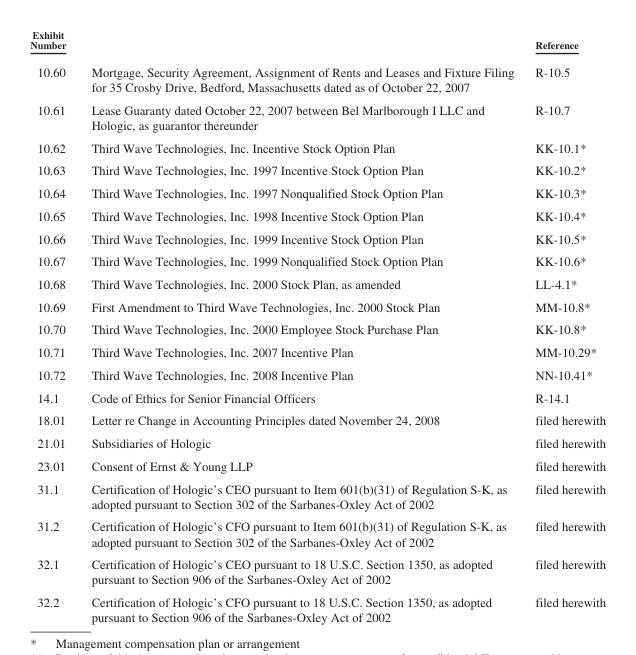table: (29, 28, 605, 624)
table column: (78, 28, 524, 624), (524, 28, 605, 624), (29, 28, 78, 624)
table column header: (29, 28, 605, 98)
table row: (29, 28, 605, 98), (29, 476, 605, 514), (29, 514, 605, 552), (29, 552, 605, 590), (29, 98, 605, 135), (29, 590, 605, 624), (29, 135, 605, 158), (29, 158, 605, 181), (29, 181, 605, 204), (29, 226, 605, 249), (29, 249, 605, 272), (29, 272, 605, 295), (29, 317, 605, 340), (29, 340, 605, 363), (29, 385, 605, 408), (29, 408, 605, 431), (29, 431, 605, 454), (29, 204, 605, 226), (29, 295, 605, 317), (29, 363, 605, 385), (29, 454, 605, 476)
